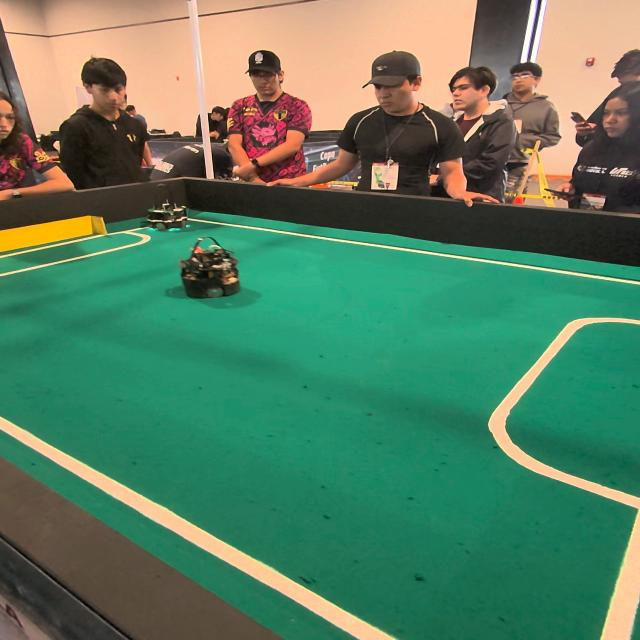Robot: (178, 237, 242, 301), (146, 181, 188, 235)
